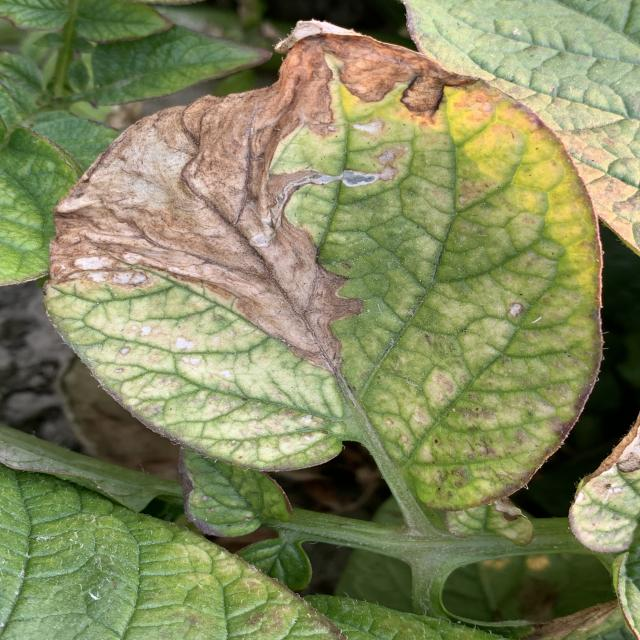lateblight: (50, 34, 477, 376)
